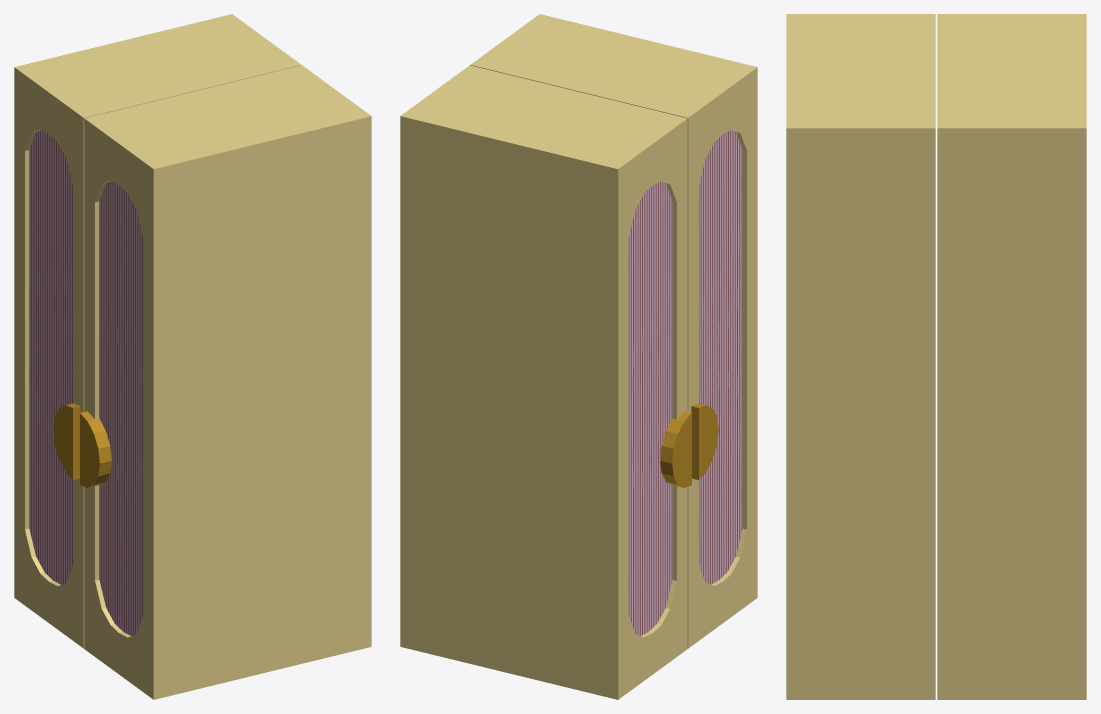
The model's file is Game_Wardrobe.glb.
The picture shows the model from 3 angles, left to right: view 1: azimuth 30°, elevation 25°; view 2: azimuth 150°, elevation 25°; view 3: azimuth 270°, elevation 25°; orthographic projection. The views are drawn at different scales.
Parts seen in each view (by area): view 1: Cube; view 2: Cube; view 3: Cube.
Part boxes in pixels (x1,y1,x2,y2): Cube: [14, 14, 371, 699]; Cube: [400, 14, 757, 699]; Cube: [786, 14, 1086, 699].
Size of the model in its own units: 2.07 by 4.66 by 2.22.
3 materials, 1 textured.
